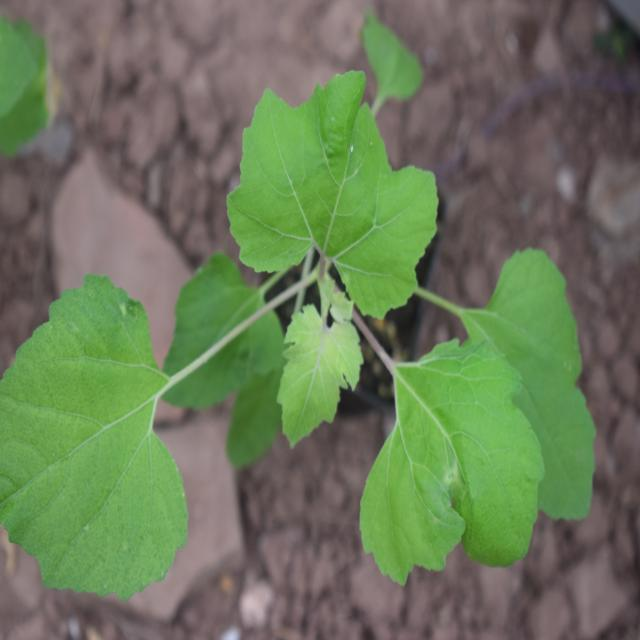cocklebur: (0, 87, 600, 597)
